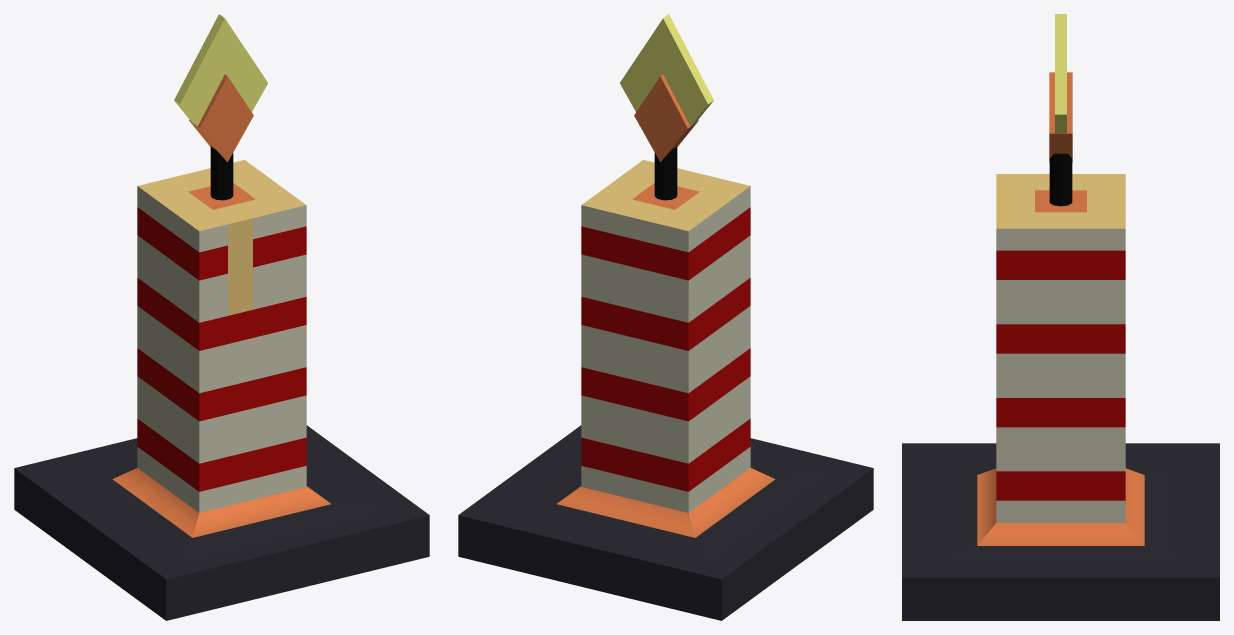
Rendered from 003 Candle.fbx.
The picture shows the model from 3 angles, left to right: view 1: azimuth 30°, elevation 25°; view 2: azimuth 150°, elevation 25°; view 3: azimuth 270°, elevation 25°; orthographic projection. The views are drawn at different scales.
Visible parts, largest first — view 1: Lowpoly_Christmas_Pack_03:pCube4; view 2: Lowpoly_Christmas_Pack_03:pCube4; view 3: Lowpoly_Christmas_Pack_03:pCube4.
Part boxes in pixels (x1,y1,x2,y2): Lowpoly_Christmas_Pack_03:pCube4: (14,14,429,620); Lowpoly_Christmas_Pack_03:pCube4: (458,14,873,620); Lowpoly_Christmas_Pack_03:pCube4: (902,14,1219,620).
Bounding box in the file's own units: 1.64 × 3.07 × 1.64.
